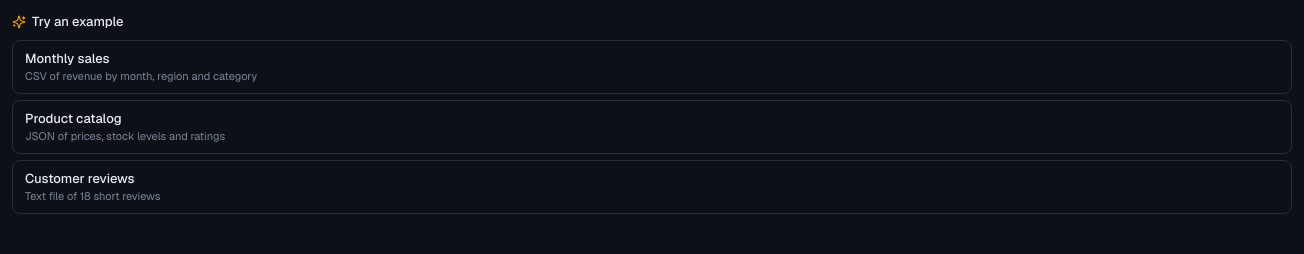
Scenario: ExamplePicker › shows an error when the dataset cannot be loaded
This screenshot has width=1304, height=254.
Click the button "Customer reviews Text file of 18 short reviews" at (80, 178), box [12,160,1292,214]
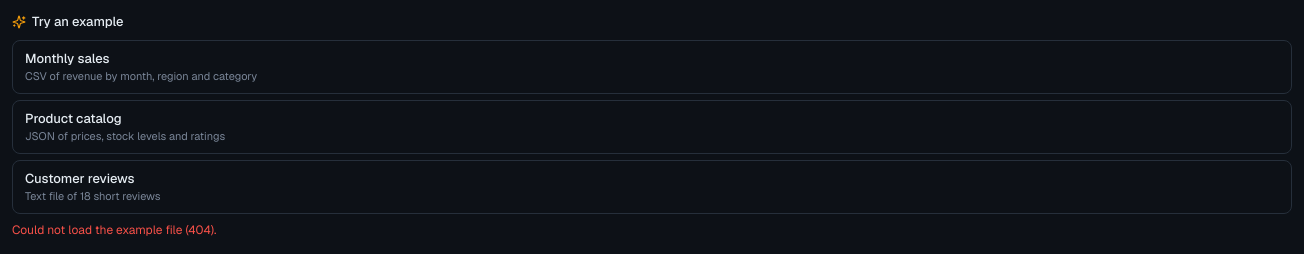
Check: the message reads "Could not load the example file (404).", box [12,222,216,238]
